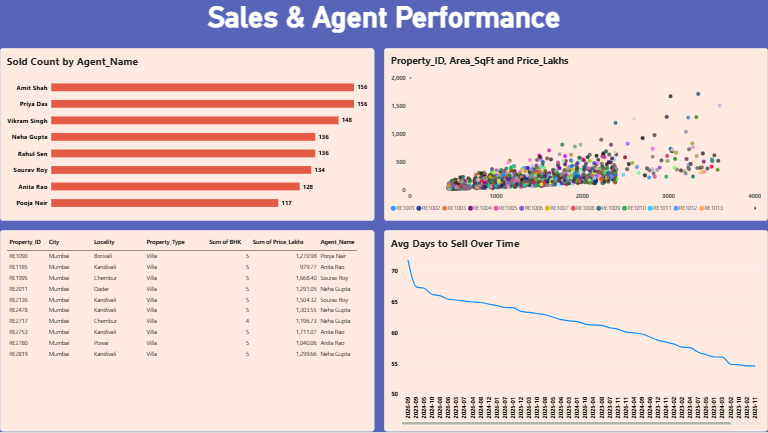

The page's visual inventory and layout, read from the dashboard file:
{"tool":"powerbi","page":{"name":"Sales&Agent","canvas":[1920,1080],"ordinal":2},"visuals":[{"type":"textbox","title":"Sales & Agent Performance","box":[0,0,1920,96],"z":0},{"type":"clusteredBarChart","fields":{"Category":["Real_estate clean.Agent_Name"],"Y":["_Measures.Sold Count"]},"box":[0,120,936,432],"z":1000},{"type":"scatterChart","fields":{"Series":["Real_estate clean.Property_ID"],"X":["Real_estate clean.Area_SqFt"],"Y":["Real_estate clean.Price_Lakhs"]},"box":[960,120,960,432],"z":2000},{"type":"tableEx","fields":{"Values":["Real_estate clean.Property_ID","Real_estate clean.City","Real_estate clean.Locality","Real_estate clean.Property_Type","Sum(Real_estate clean.BHK)","Sum(Real_estate clean.Price_Lakhs)","Real_estate clean.Agent_Name"]},"box":[0,576,936,504],"z":3000},{"type":"lineChart","title":"Avg Days to Sell Over Time","fields":{"Category":["Real_estate clean.Year-Month"],"Y":["_Measures.Avg Days to Sell"]},"box":[960,576,960,504],"z":3001}]}

Visuals, with their boxes in screenshot pixels (x1, y1, x2, y2), scaled from the page's 1920x1080 canvas onto the 768x433 screenshot:
"Sales & Agent Performance" textbox: box=[0, 0, 767, 38]
clusteredBarChart - Real_estate clean.Agent_Name x _Measures.Sold Count: box=[0, 48, 374, 221]
scatterChart - Real_estate clean.Property_ID x Real_estate clean.Area_SqFt: box=[384, 48, 767, 221]
tableEx - Real_estate clean.Property_ID x Real_estate clean.City: box=[0, 231, 374, 432]
"Avg Days to Sell Over Time" lineChart: box=[384, 231, 767, 432]
